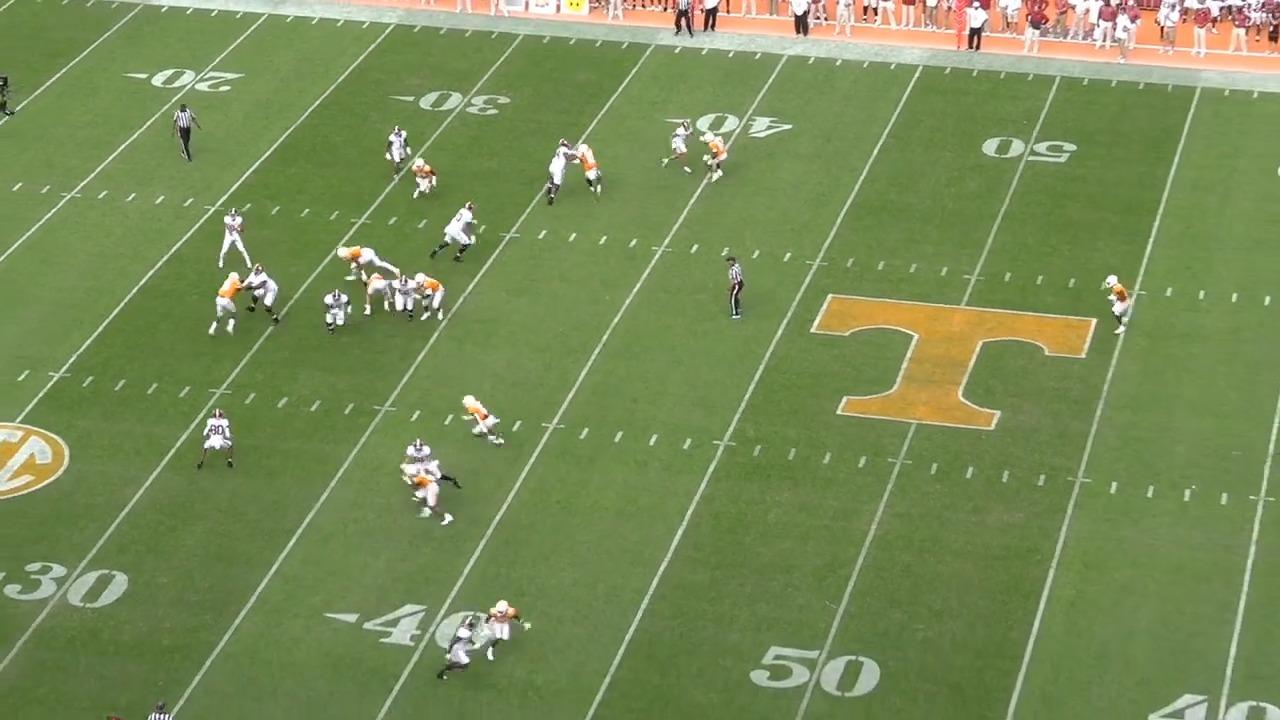defense: (402, 454, 452, 534), (481, 600, 530, 666), (463, 394, 512, 453), (209, 272, 248, 342), (336, 245, 401, 281), (574, 143, 610, 201), (1106, 271, 1136, 336), (414, 273, 450, 325), (700, 131, 731, 187), (362, 272, 397, 319), (408, 155, 437, 202)
oline: (430, 199, 483, 262), (245, 262, 287, 327), (547, 135, 584, 205), (389, 273, 423, 325), (324, 291, 355, 337)
qb: (210, 206, 246, 270)
ref: (177, 102, 205, 166), (725, 254, 750, 324), (142, 699, 173, 720)
skill: (402, 436, 464, 501), (436, 616, 486, 686), (194, 403, 240, 473), (655, 120, 693, 177), (382, 123, 414, 180)
